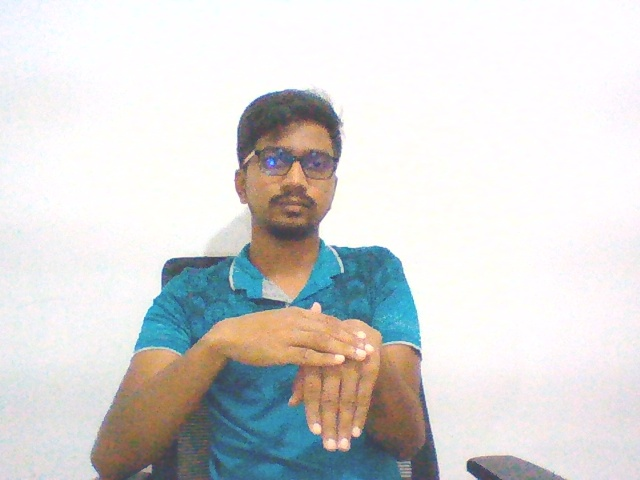pineapple: (202, 296, 388, 461)
